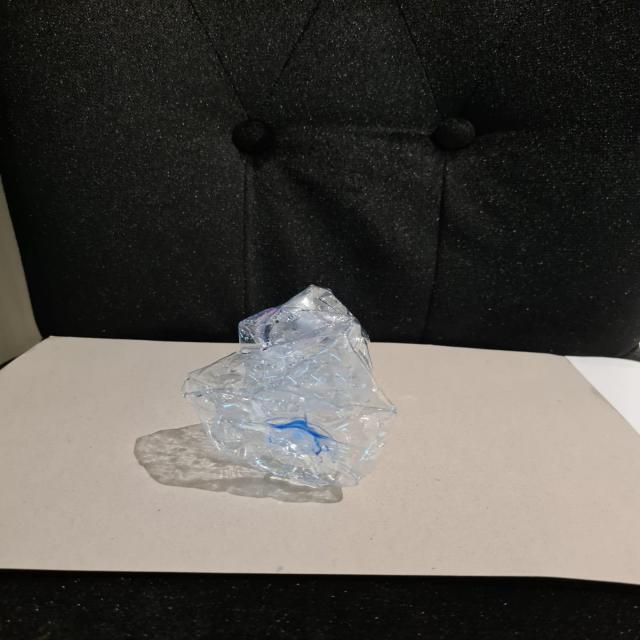bottle: (163, 285, 412, 509)
